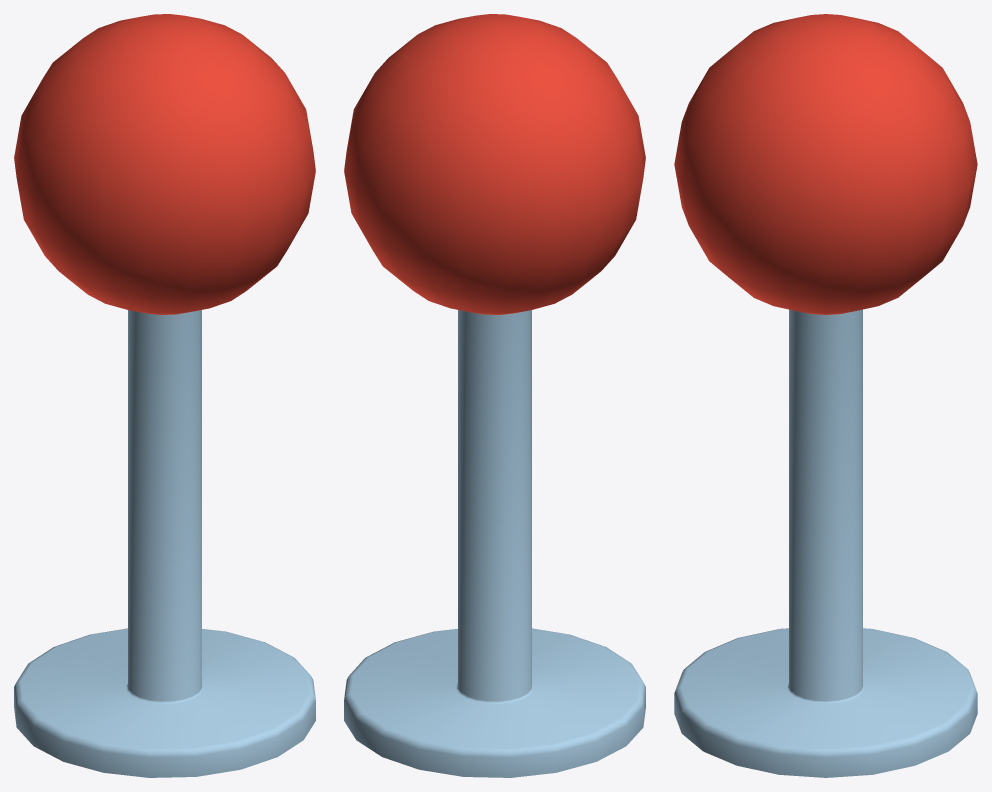
The model's file is Joystick.fbx.
The picture shows the model from 3 angles, left to right: view 1: azimuth 30°, elevation 25°; view 2: azimuth 150°, elevation 25°; view 3: azimuth 270°, elevation 25°; orthographic projection.
Parts seen in each view (by area): view 1: Cylinder; view 2: Cylinder; view 3: Cylinder.
Boxes of the visible parts, x1=… form: Cylinder: x1=14, y1=14, x2=315, y2=777; Cylinder: x1=344, y1=14, x2=645, y2=777; Cylinder: x1=674, y1=14, x2=977, y2=777.
Bounding box in the file's own units: 200 × 500 × 200.
